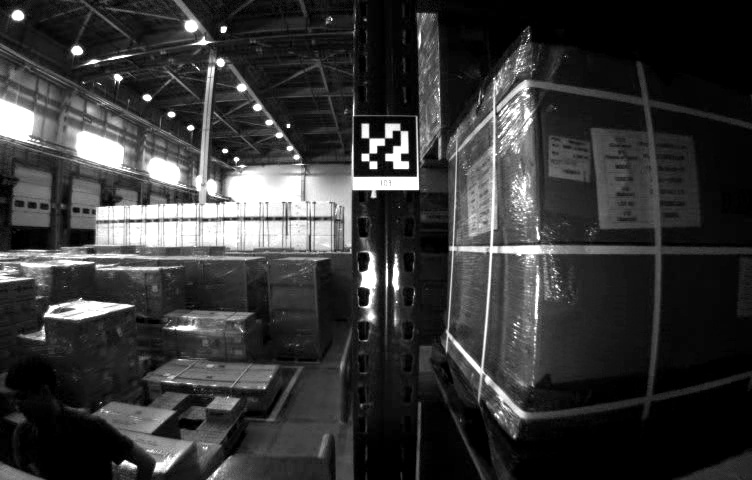True Barcode: (549, 135, 589, 183)
